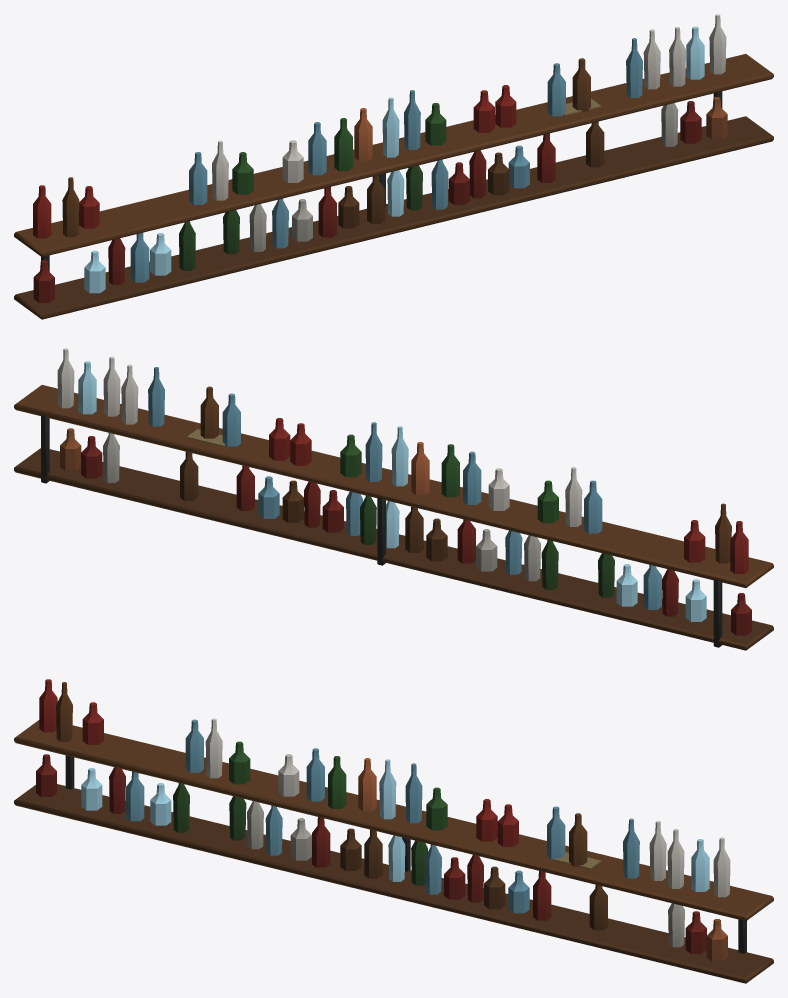
Rendered from 58_etagere_bouteilles.fbx.
3 views of the same model, one above another, from view 1: azimuth 30°, elevation 25°; view 2: azimuth 150°, elevation 25°; view 3: azimuth 330°, elevation 25° (orthographic).
Parts seen in each view (by area): view 1: Bouteilles, Etagere; view 2: Bouteilles, Etagere; view 3: Bouteilles, Etagere.
Part boxes in pixels (bbox=[...]): Bouteilles: bbox=[33, 14, 727, 302]; Etagere: bbox=[14, 54, 773, 319]; Bouteilles: bbox=[57, 348, 751, 635]; Etagere: bbox=[14, 385, 773, 650]; Bouteilles: bbox=[36, 679, 730, 961]; Etagere: bbox=[14, 720, 773, 983].
Bounding box in the file's own units: 3.36 × 0.56 × 0.224.
1 material, 1 textured.
